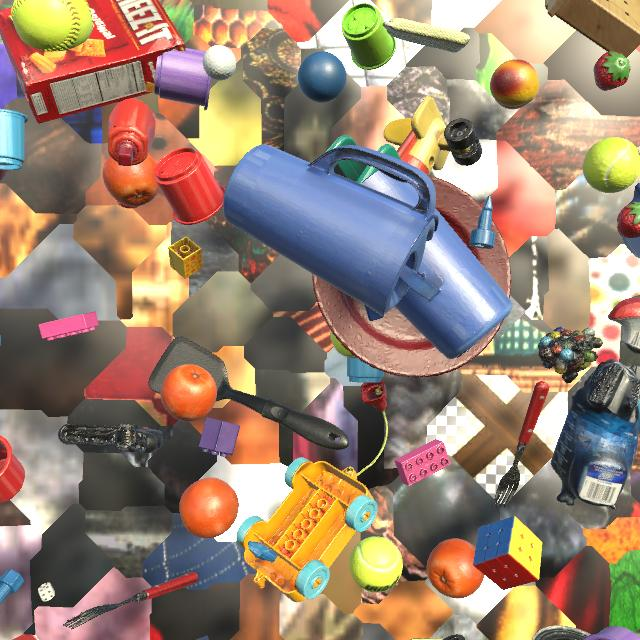ycb_002_master_chef_can: (532, 625, 591, 640)
ycb_003_cracker_box: (0, 0, 186, 124)
ycb_010_potted_meat_can: (410, 638, 443, 640)
ycb_012_strawberry: (594, 51, 631, 91), (617, 202, 640, 238), (632, 295, 640, 298)
ycb_013_apple: (0, 170, 8, 183)
ycb_015_peach: (490, 59, 539, 109)
ycb_017_orange: (179, 477, 239, 538), (426, 538, 484, 598), (160, 364, 217, 422), (103, 154, 160, 206)
